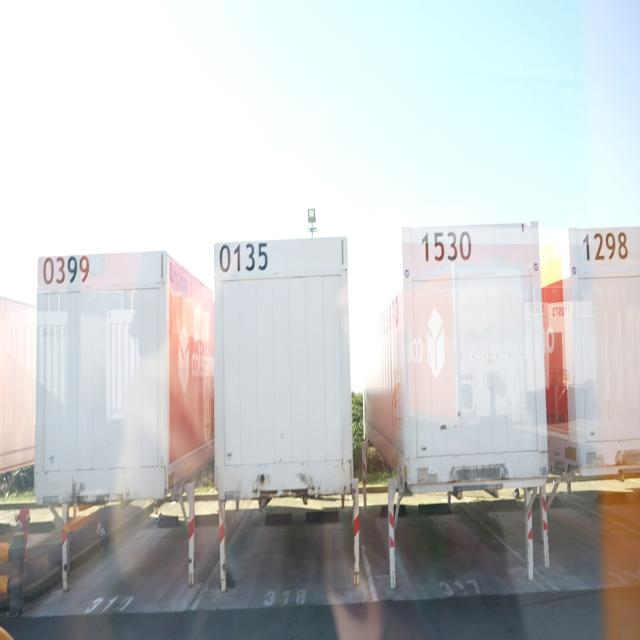Code: (419, 224, 475, 268), (216, 240, 275, 279), (579, 226, 631, 267), (40, 252, 92, 292)
